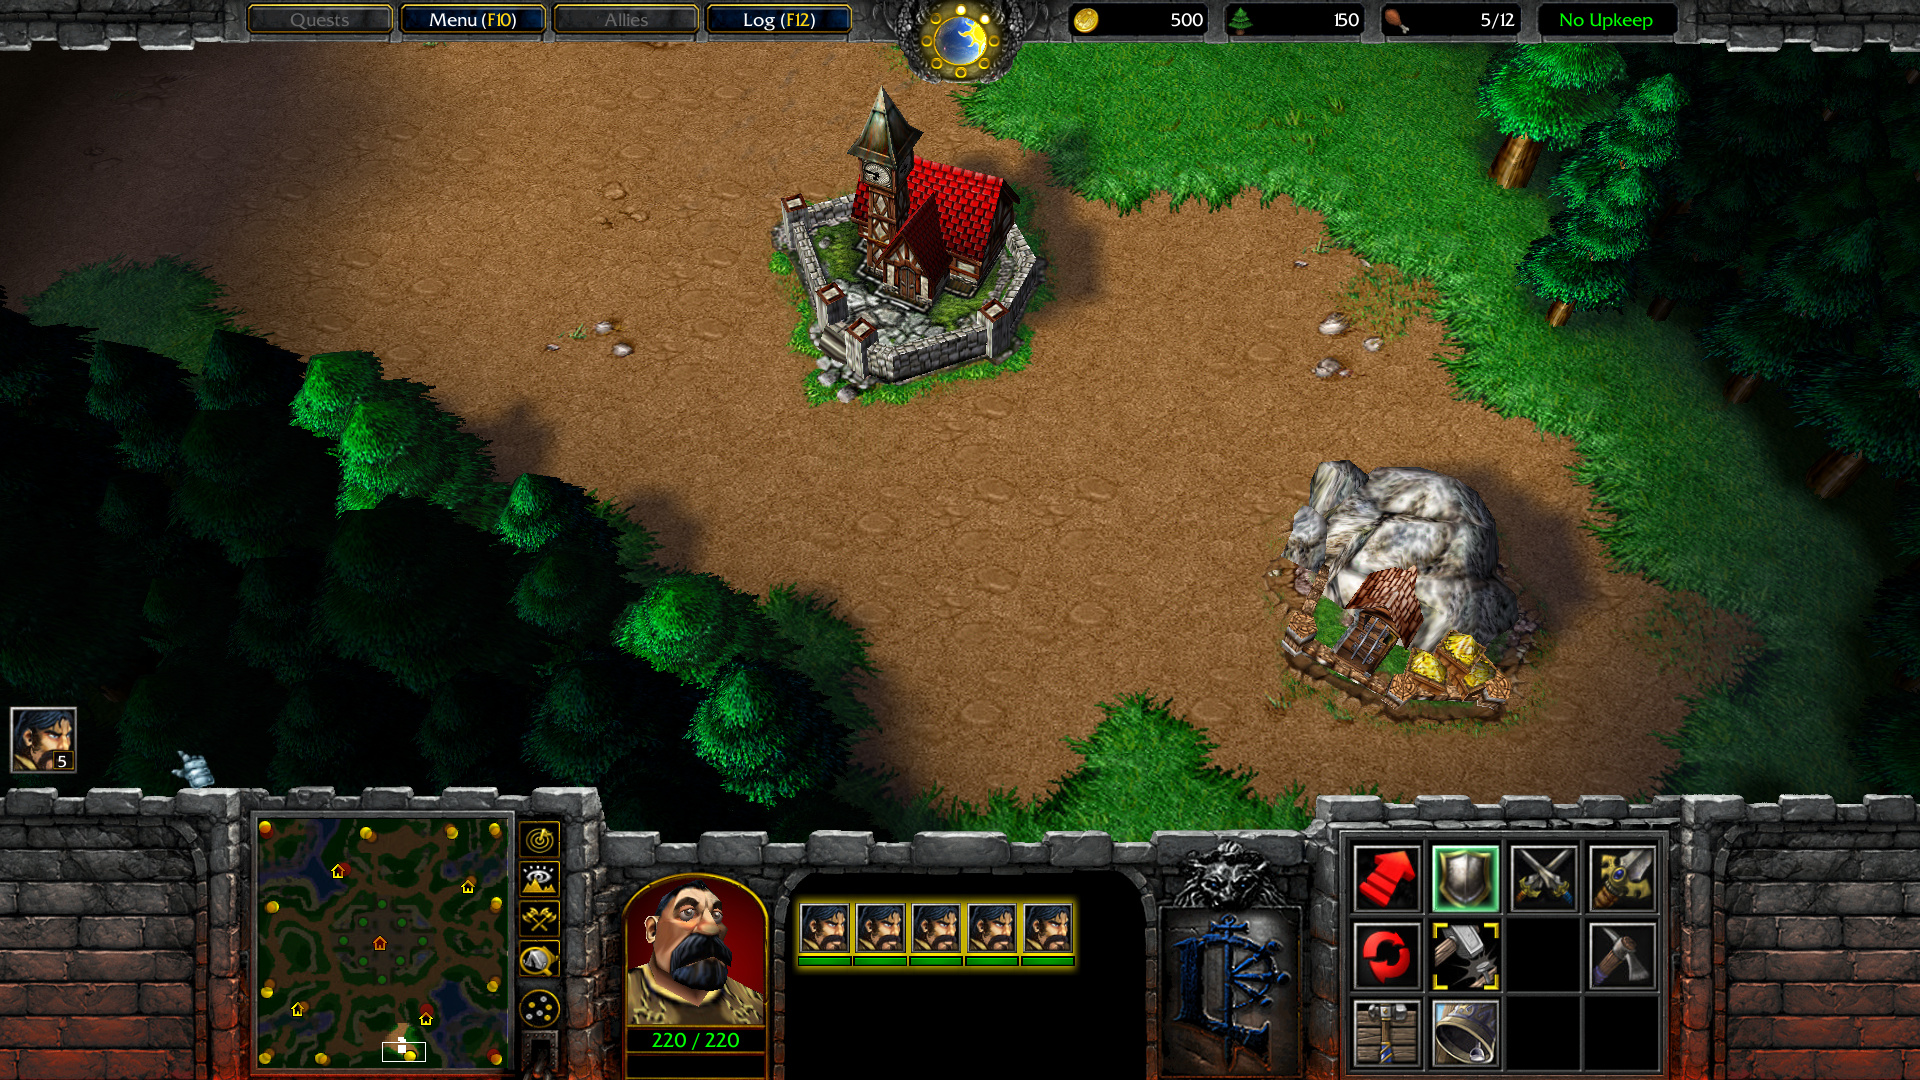Townhall: (771, 81, 1064, 404)
